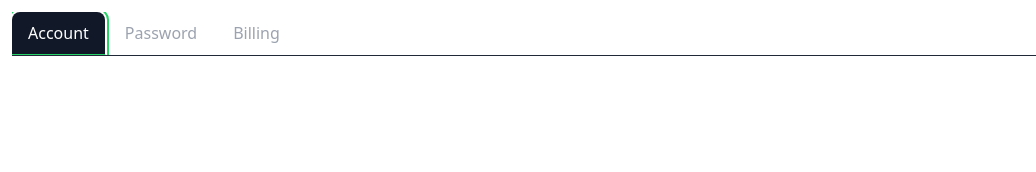
Tabs › moves focus with the arrow keys and activates on Enter (keyboard navigation)
The image size is (1036, 172).
Press ArrowRight in the tab "Account", box [12,12,105,56]
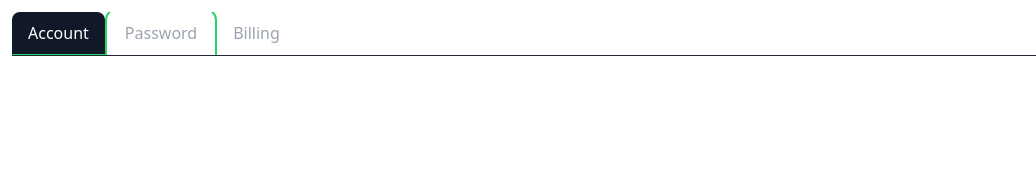
Press Enter in the tab "Password", box [109,12,213,56]
Click the tab "Password" at {"x": 161, "y": 34}, box [109,12,213,56]
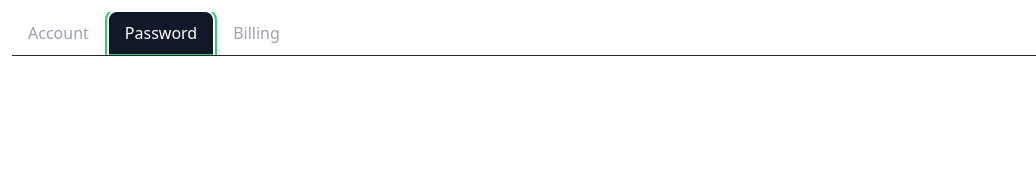
Result: the tab "Password" is selected at [109,12,213,56]
